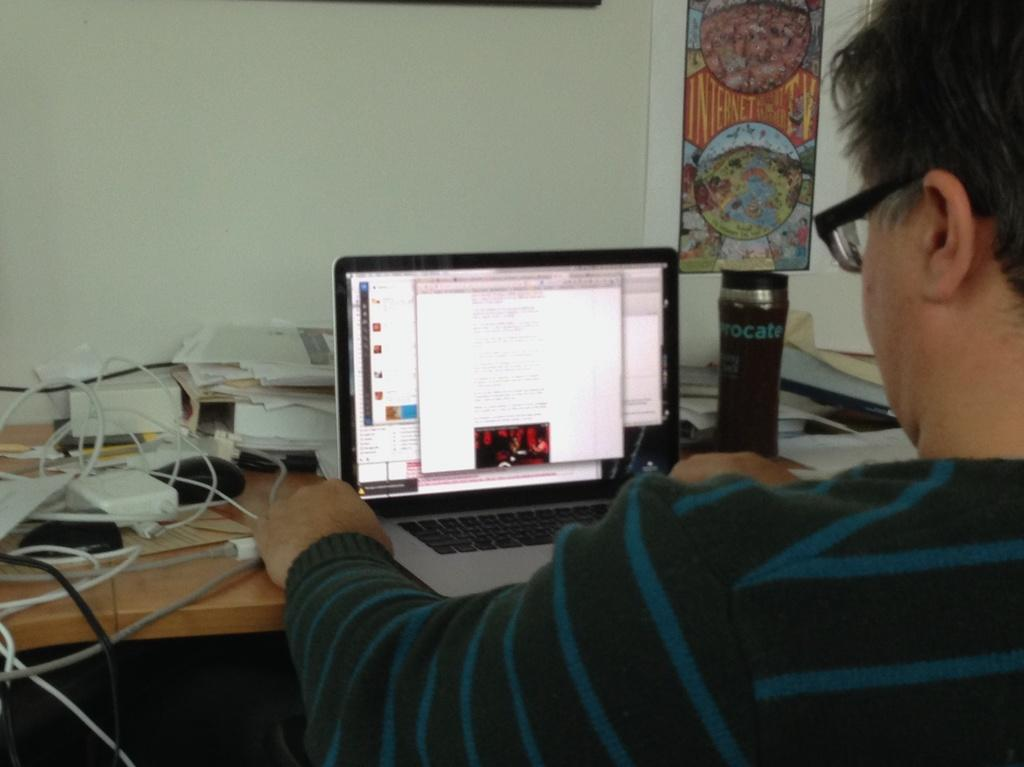Computer-keyboard: (394, 499, 604, 556)
